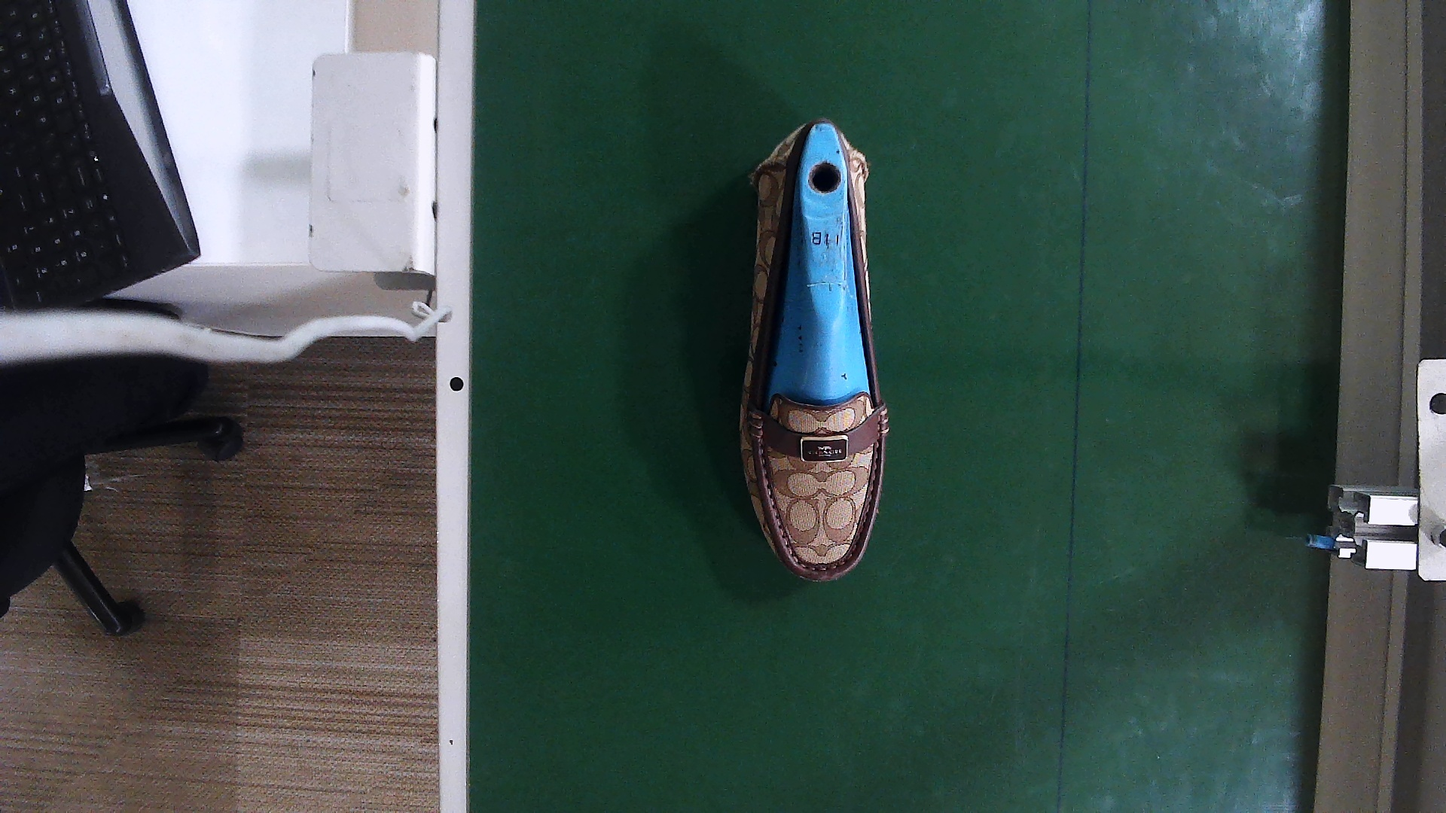shoe: (743, 122, 888, 580)
